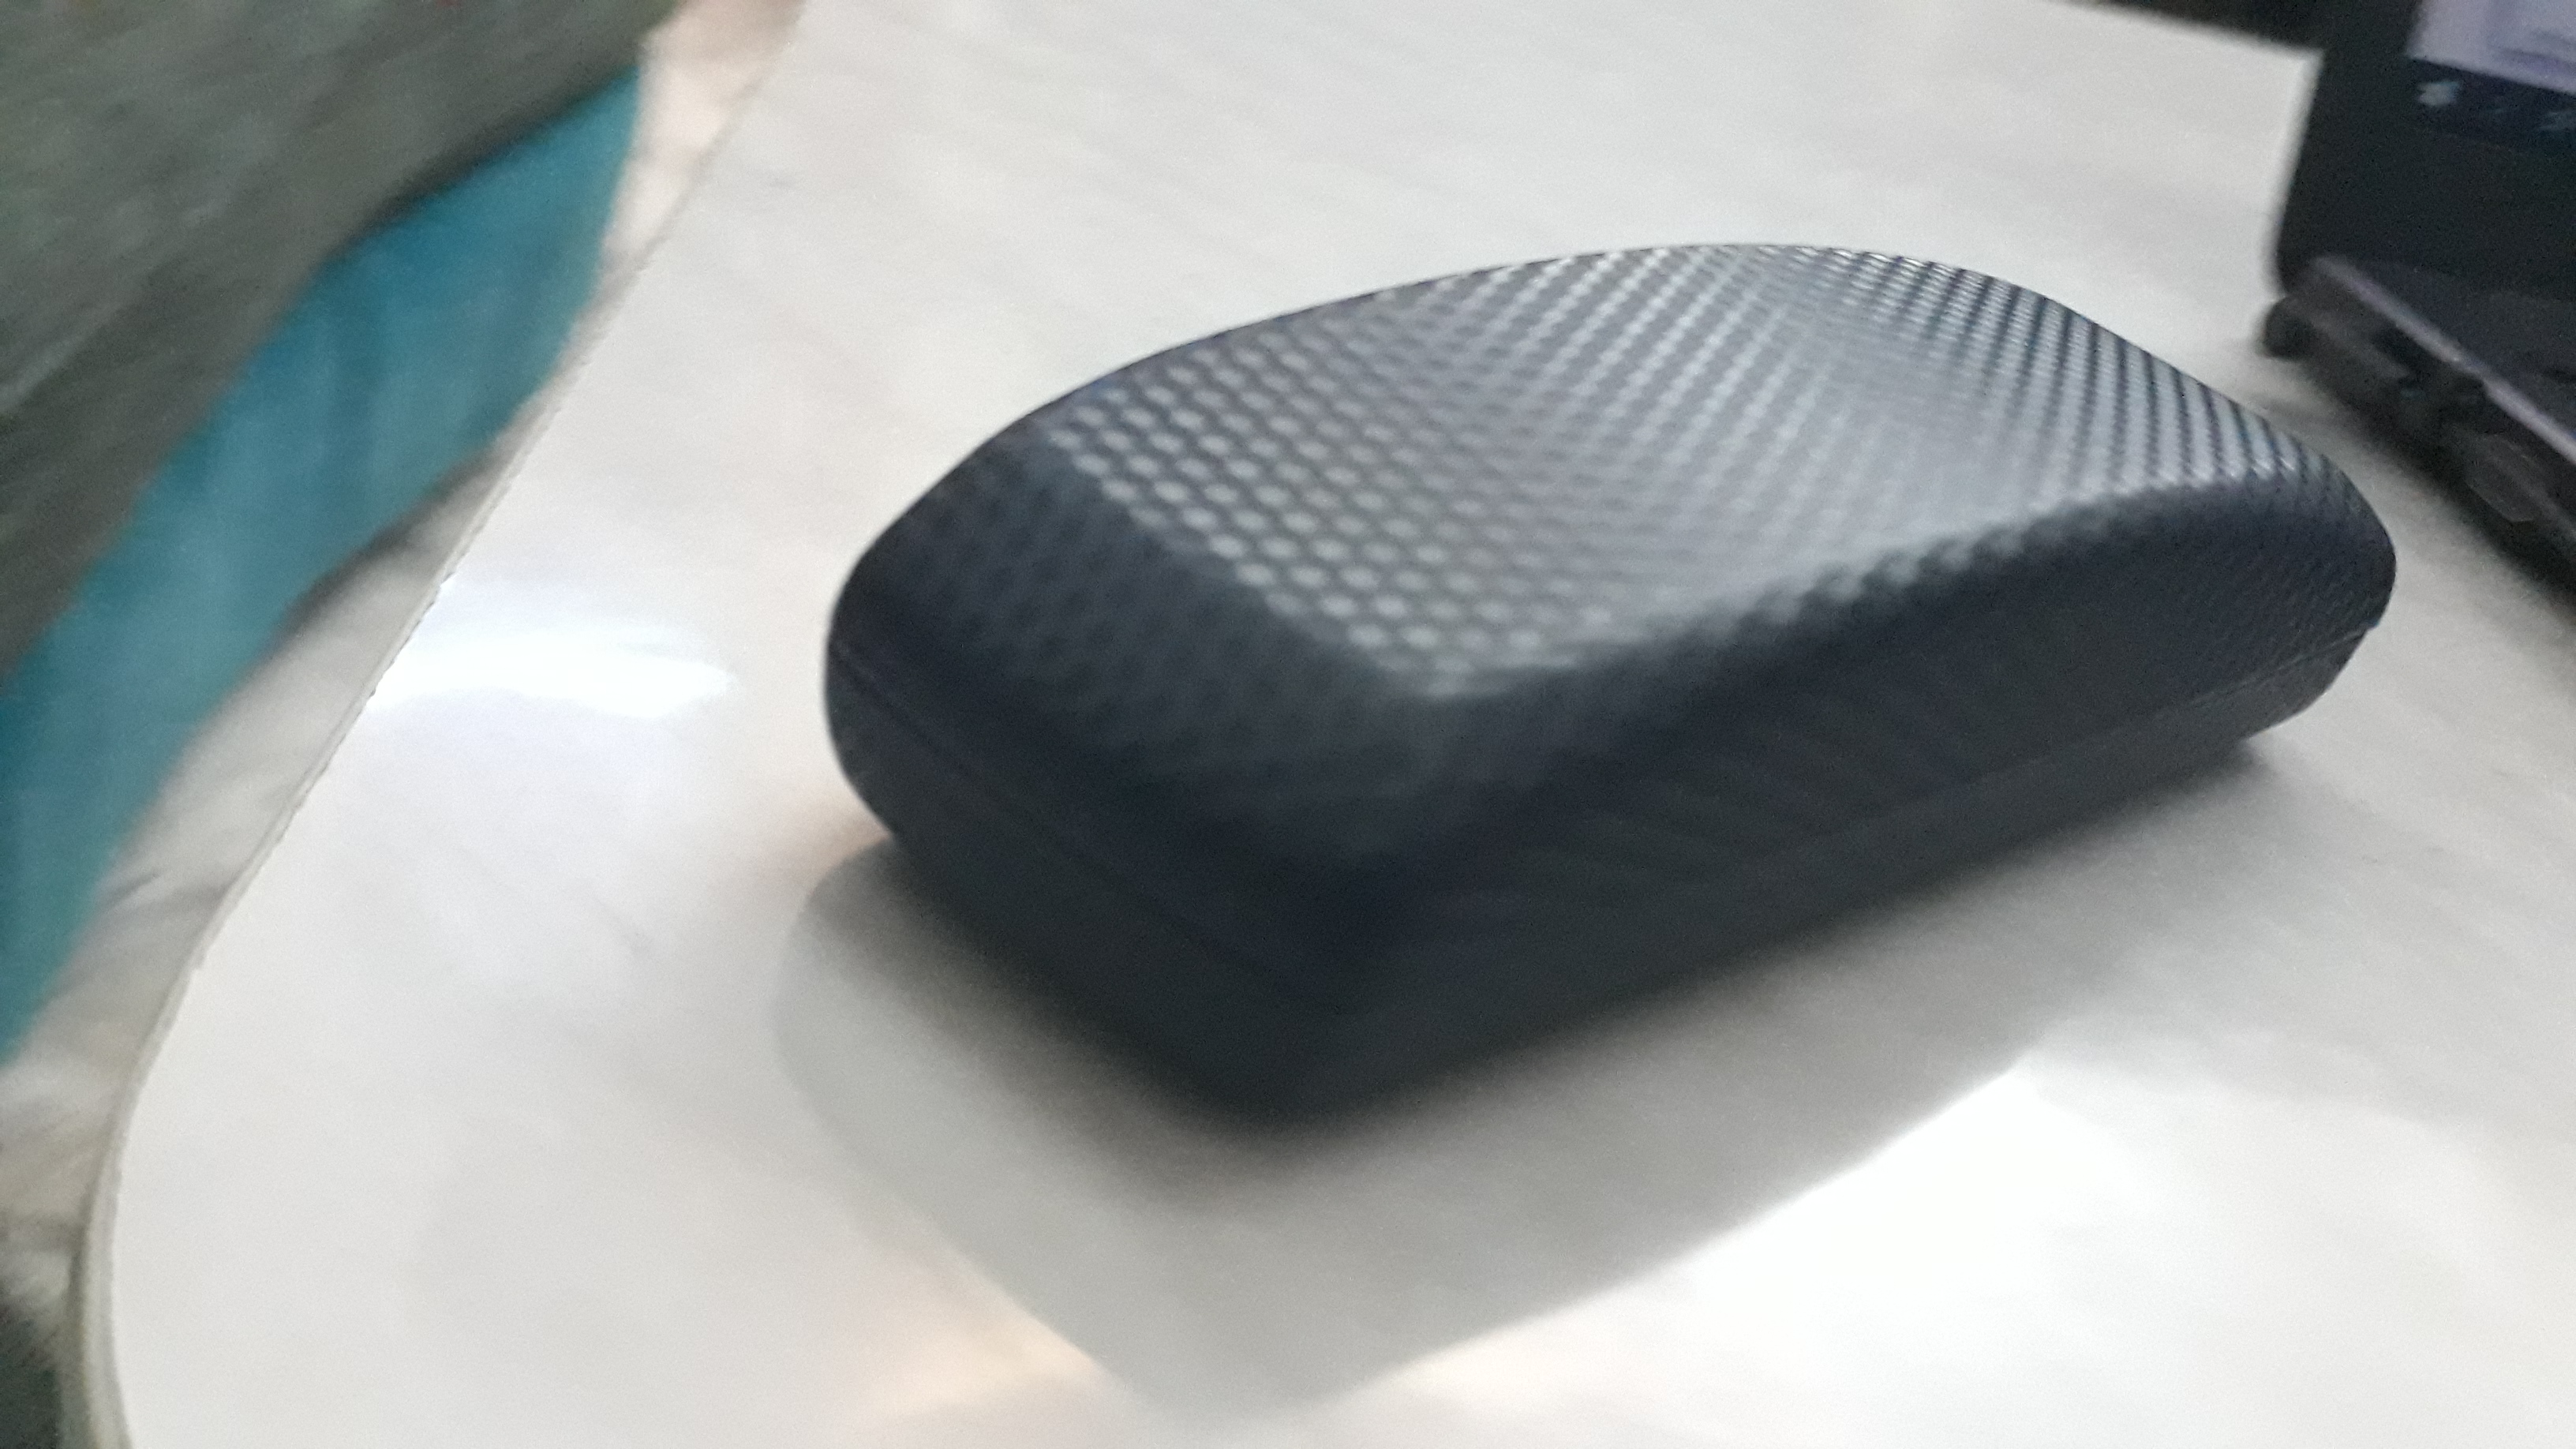nadar: (817, 163, 2396, 1152)
